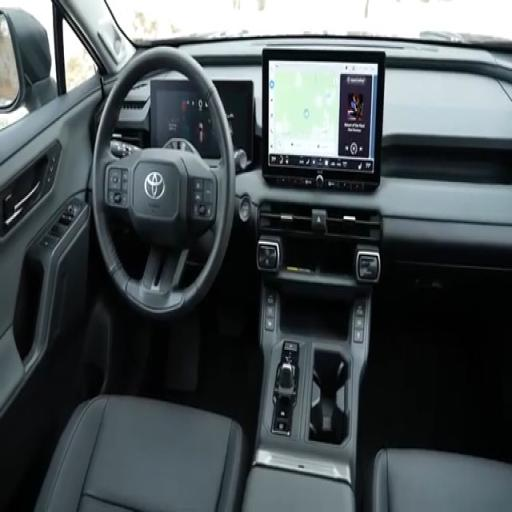door: (0, 74, 102, 510)
emblem: (144, 171, 164, 200)
side_mirror: (0, 9, 57, 112), (0, 12, 24, 112)
window: (0, 0, 56, 81)
windshield: (106, 0, 511, 44)
